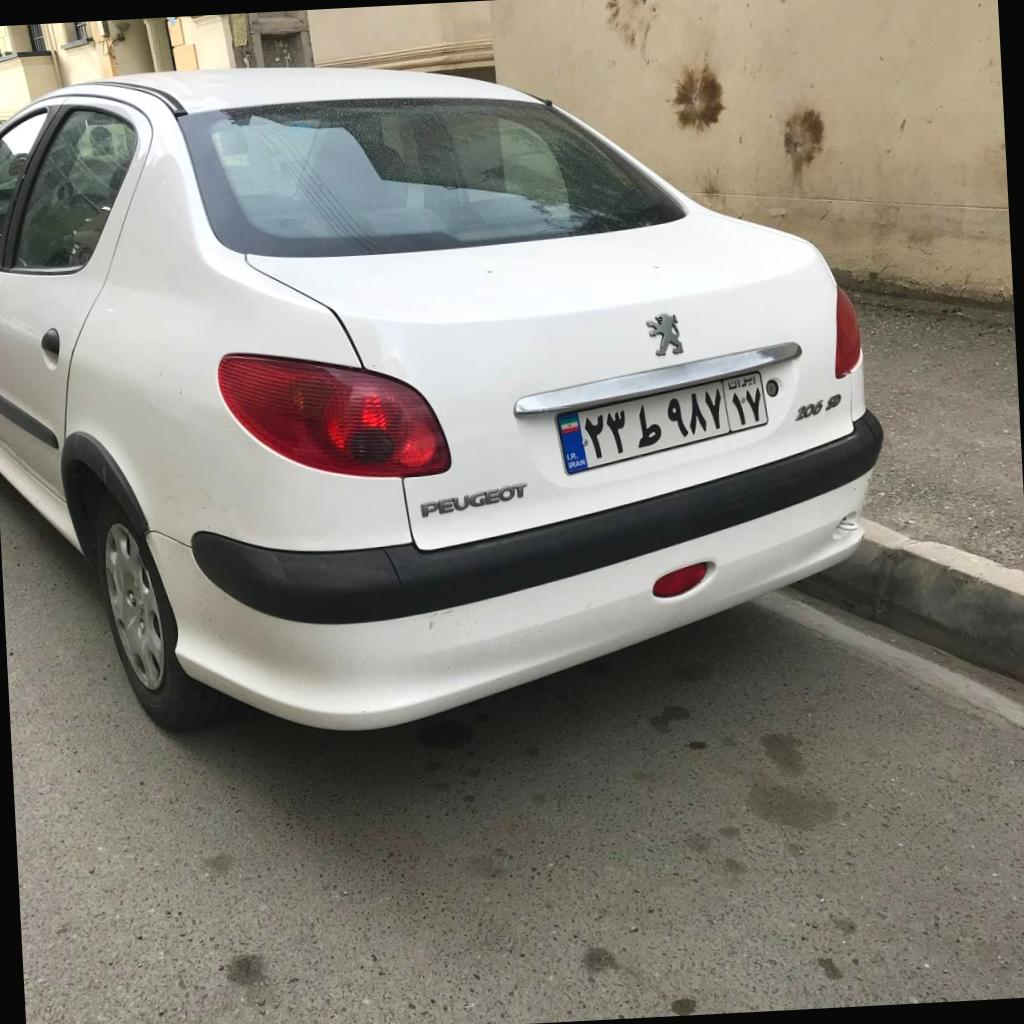Plates: (556, 371, 768, 474)
